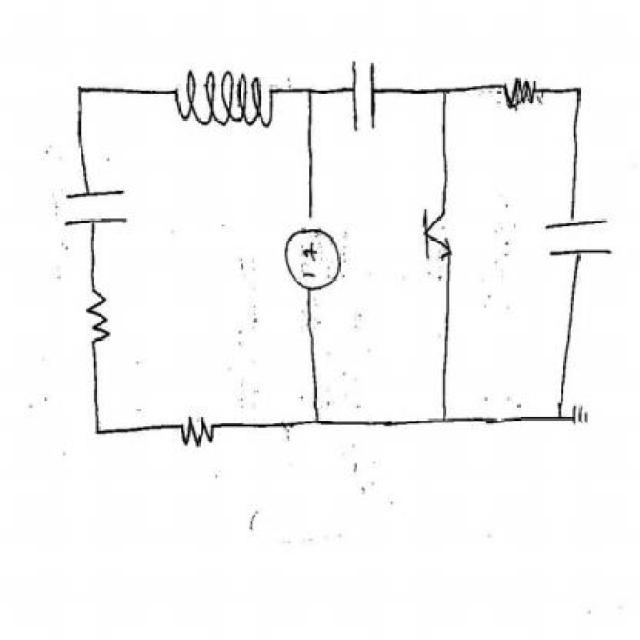capacitor: (532, 201, 624, 263), (51, 179, 147, 234), (342, 56, 384, 152)
ground: (570, 392, 588, 452)
inductor: (172, 49, 283, 143)
resistor: (482, 60, 551, 117), (159, 408, 236, 456), (80, 287, 119, 357)
transistor: (408, 190, 467, 275)
voltage_source: (280, 223, 346, 300)
